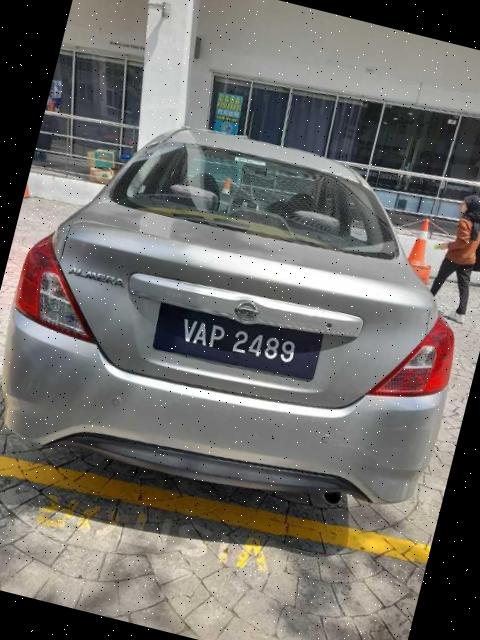License_Plate: (150, 293, 327, 389)
car: (1, 89, 480, 539)
